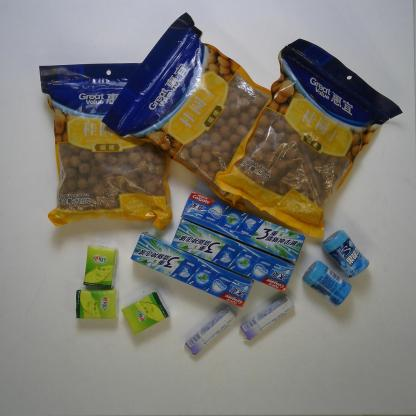Candy: (183, 305, 237, 356), (239, 294, 296, 341)
Dried Food: (214, 37, 404, 240), (99, 10, 274, 213), (39, 61, 174, 232)
Gum: (320, 229, 370, 279), (301, 260, 353, 308)
Personal Hygiene: (129, 231, 255, 309), (171, 219, 296, 293), (180, 190, 306, 263)
Tissue: (120, 290, 170, 336), (83, 243, 119, 290), (75, 288, 119, 320)
